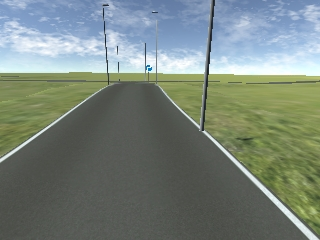right: (144, 65, 153, 72)
